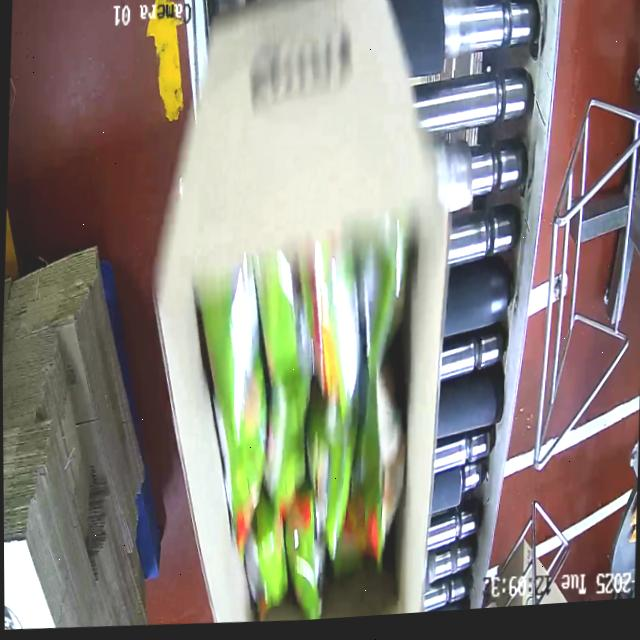YOGURT_HERB: (230, 228, 415, 625)
